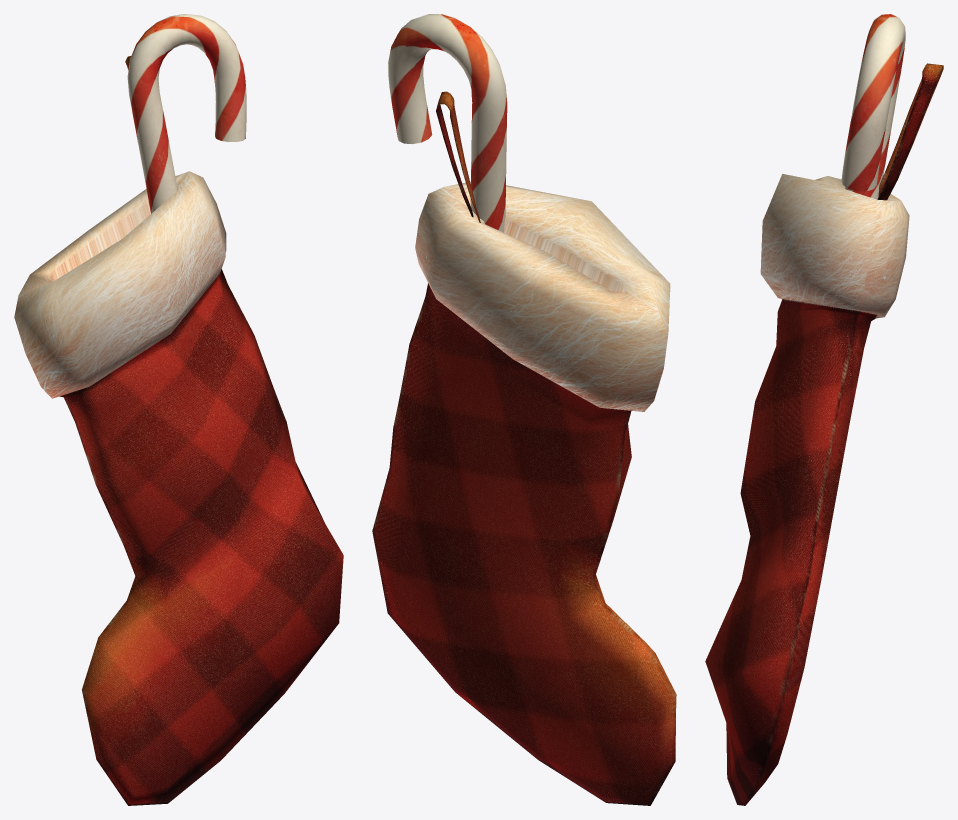
The model's file is socks.glb.
3 views of the same model, side by side, from view 1: azimuth 30°, elevation 25°; view 2: azimuth 150°, elevation 25°; view 3: azimuth 270°, elevation 25° (orthographic). The views are drawn at different scales.
Parts seen in each view (by area): view 1: Cube; view 2: Cube; view 3: Cube.
Boxes of the visible parts, left/top/right/bottom form: Cube: left=14, top=14, right=343, bottom=805; Cube: left=372, top=14, right=676, bottom=805; Cube: left=705, top=14, right=943, bottom=805.
Bounding box in the file's own units: 0.5955 × 1.43 × 0.3725.
1 material, 1 textured.
